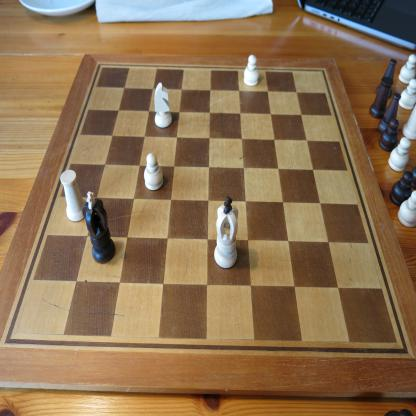black-bishop: (376, 92, 401, 136), (380, 53, 399, 84)
black-king: (82, 190, 116, 265)
black-pawn: (389, 170, 413, 206)
black-rook: (368, 75, 392, 121)
white-king: (215, 195, 239, 270)
white-knight: (154, 81, 172, 128)
white-pawn: (388, 137, 411, 174), (144, 152, 164, 191), (398, 52, 416, 84), (243, 54, 260, 87)
white-rook: (60, 168, 84, 223)
